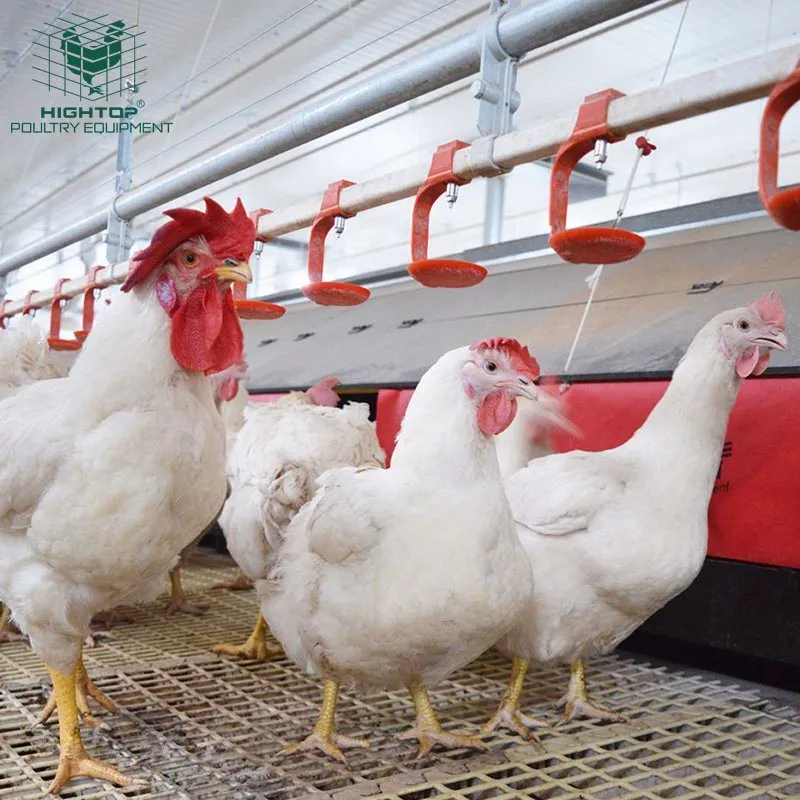Healthy: (1, 194, 270, 760), (269, 329, 544, 761)
